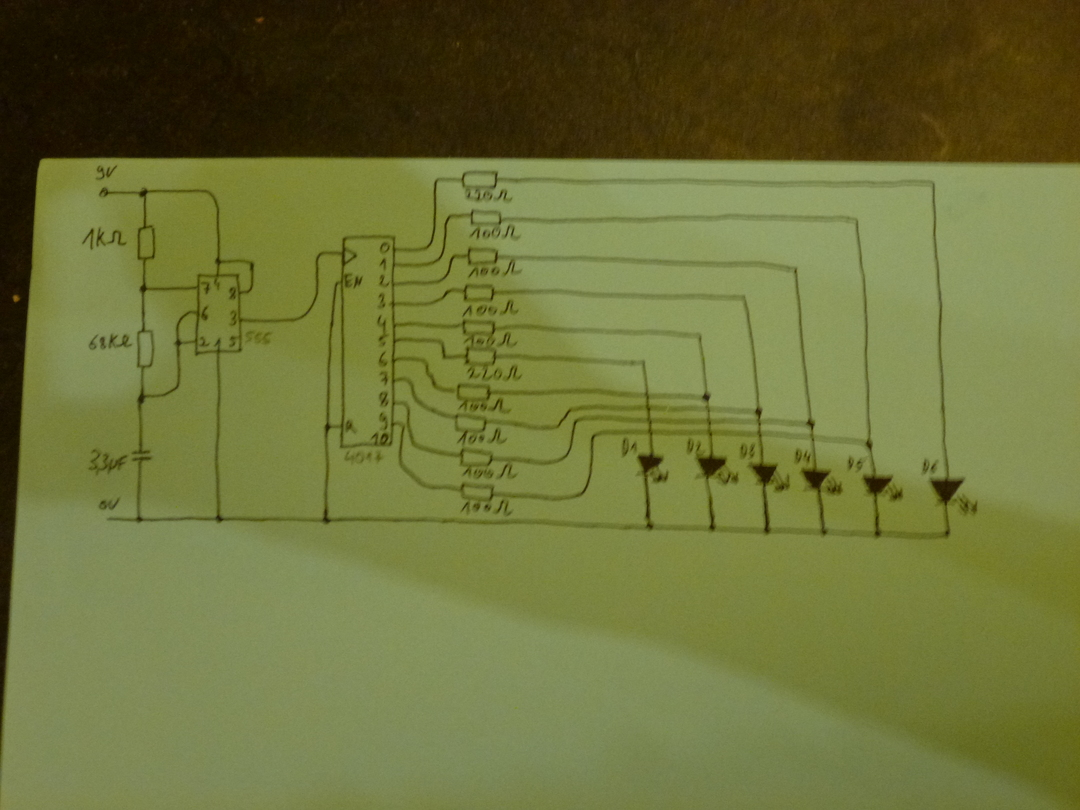capacitor.unpolarized: (130, 448, 154, 464)
crossover: (754, 428, 768, 440), (642, 401, 657, 412), (807, 432, 821, 443), (644, 413, 657, 424), (704, 427, 717, 438), (704, 415, 717, 426), (641, 390, 655, 400), (644, 426, 658, 436), (703, 403, 716, 413), (755, 417, 766, 425)
diode.light_emitting: (926, 476, 979, 516), (694, 456, 739, 486), (749, 463, 791, 493), (799, 468, 843, 496), (861, 474, 904, 502), (635, 454, 670, 484)
integrated_circuit: (339, 233, 396, 450)
integrated_cricuit.ne555: (195, 271, 243, 355)
junction: (397, 456, 417, 483), (302, 294, 318, 318), (411, 392, 429, 412), (205, 188, 220, 209), (574, 481, 591, 499), (133, 390, 151, 406), (925, 176, 940, 190), (850, 214, 866, 227), (790, 263, 804, 277), (137, 186, 151, 200), (862, 437, 877, 450), (167, 383, 180, 397), (175, 311, 189, 324), (705, 522, 718, 535), (213, 511, 225, 525), (943, 527, 954, 541), (429, 377, 440, 391), (320, 514, 332, 526), (213, 256, 226, 267), (761, 524, 772, 537), (403, 375, 416, 386), (138, 283, 149, 295), (313, 250, 324, 262), (819, 526, 830, 538), (804, 417, 816, 428), (739, 292, 750, 304), (644, 519, 654, 532), (872, 527, 882, 540), (443, 213, 453, 226), (694, 331, 705, 342), (588, 430, 599, 441), (439, 271, 450, 282), (434, 252, 445, 263), (700, 391, 712, 401), (323, 421, 332, 434), (174, 337, 184, 348), (562, 450, 572, 461), (426, 237, 435, 249), (410, 440, 420, 450), (754, 406, 765, 415), (435, 337, 446, 346), (246, 258, 256, 267), (246, 285, 255, 295), (638, 358, 648, 367), (552, 422, 562, 431), (421, 355, 430, 365), (134, 515, 144, 524), (445, 285, 454, 294), (449, 253, 458, 262), (403, 400, 411, 410), (571, 416, 580, 424), (441, 352, 449, 361), (432, 176, 441, 184), (399, 421, 405, 433), (436, 296, 446, 303), (333, 280, 339, 288), (566, 406, 572, 414)
resistor: (135, 328, 156, 370), (136, 224, 157, 262), (459, 481, 495, 503), (460, 169, 499, 189), (455, 382, 493, 401), (453, 413, 488, 433), (458, 448, 494, 467), (462, 283, 496, 303), (464, 347, 497, 367), (460, 318, 496, 336), (469, 208, 503, 227), (466, 246, 499, 265)
terminal: (97, 186, 113, 199), (105, 515, 115, 523)
text: (87, 448, 128, 477), (80, 226, 126, 250), (462, 299, 518, 318), (463, 462, 519, 480), (460, 499, 514, 517), (458, 398, 512, 416), (464, 331, 518, 349), (468, 261, 522, 279), (469, 224, 522, 242), (87, 332, 134, 352), (457, 428, 506, 447), (467, 365, 521, 382), (464, 188, 513, 204), (344, 450, 383, 465), (243, 329, 272, 346), (95, 163, 118, 181), (620, 436, 638, 457), (343, 271, 364, 289), (99, 495, 122, 511), (846, 455, 867, 472), (921, 458, 940, 475), (794, 447, 811, 465), (739, 442, 756, 460), (685, 438, 702, 456), (375, 314, 390, 333), (370, 432, 389, 446), (378, 389, 390, 408), (344, 419, 358, 435), (378, 411, 389, 431), (378, 370, 390, 388), (377, 351, 389, 368), (377, 334, 390, 348), (378, 240, 390, 255), (200, 304, 210, 322), (228, 309, 238, 327), (378, 274, 390, 288), (377, 292, 386, 310), (379, 257, 389, 273), (198, 336, 210, 348), (228, 286, 237, 302), (228, 335, 239, 348), (212, 277, 223, 290), (201, 281, 211, 295), (213, 336, 222, 351)
